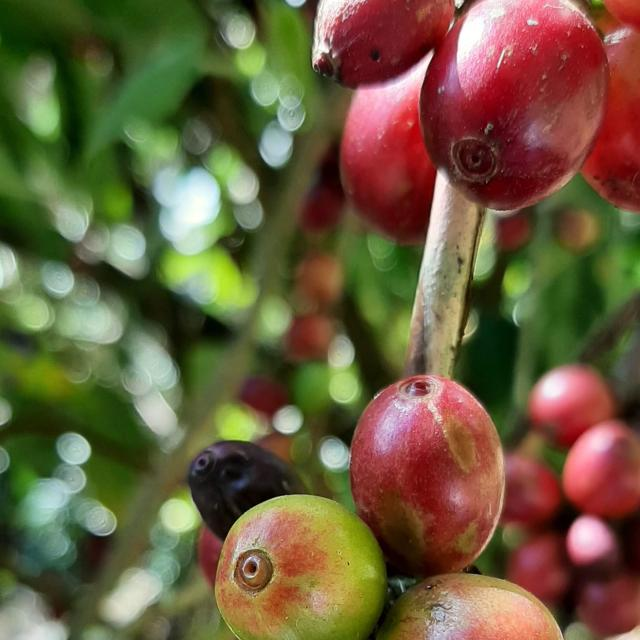red: (420, 0, 610, 210), (341, 51, 436, 245), (312, 0, 455, 88), (187, 441, 305, 541), (583, 26, 640, 212)
yellow: (350, 375, 505, 577), (215, 495, 386, 640), (377, 574, 564, 640)
